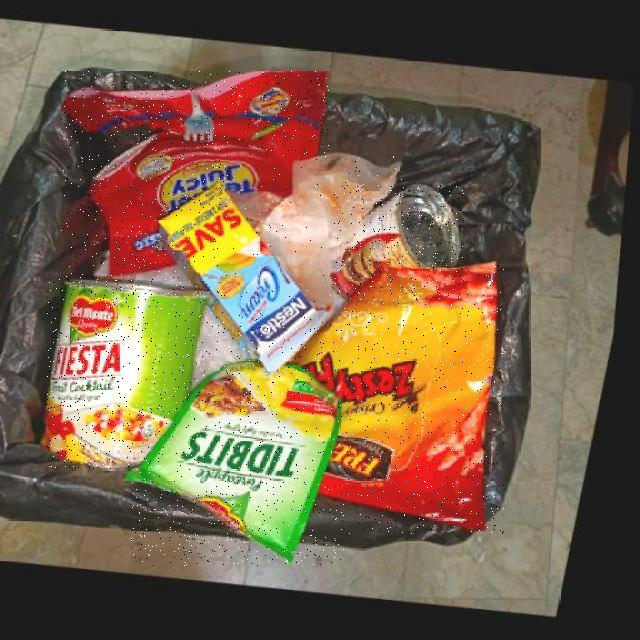metal: (48, 279, 215, 469), (335, 186, 464, 301)
paper: (163, 186, 336, 378)
wrapper: (62, 71, 330, 278), (299, 264, 504, 534), (132, 361, 348, 566), (230, 155, 405, 313)
